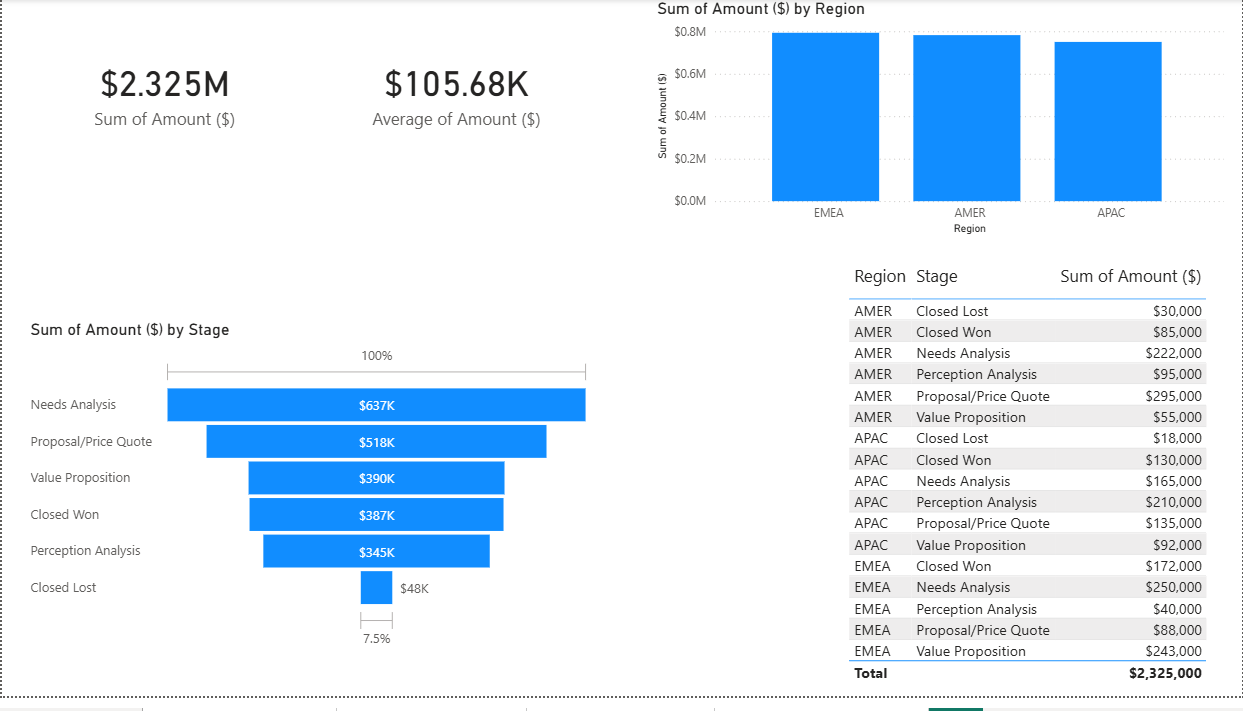

This screenshot's page, from the dashboard's own definition file:
{"tool":"powerbi","page":{"name":"Pipeline Overview","canvas":[1280,720],"ordinal":0},"visuals":[{"type":"card","fields":{"Values":["Sum(PBI Data Model.Amount ($))"]},"box":[17.3,0,301.3,190.3],"z":0},{"type":"clusteredColumnChart","fields":{"Category":["PBI Data Model.Region"],"Y":["Sum(PBI Data Model.Amount ($))"]},"box":[671.8,0,595.4,248],"z":1000},{"type":"funnel","fields":{"Category":["PBI Data Model.Stage"],"Y":["Sum(PBI Data Model.Amount ($))"]},"box":[24.5,331.6,588.2,344.5],"z":2000},{"type":"tableEx","fields":{"Values":["PBI Data Model.Region","PBI Data Model.Stage","Sum(PBI Data Model.Amount ($))"]},"box":[869.3,268.1,397.9,451.2],"z":3000},{"type":"card","fields":{"Values":["Avg(PBI Data Model.Amount ($))"]},"box":[318.6,0,301.3,190.3],"z":4000}]}

Visuals, with their boxes in screenshot pixels (x1, y1, x2, y2), scaled from the page's 1280x720 canvas onto the 1243x711 screenshot:
card - Sum(PBI Data Model.Amount ($)): [17,0,309,188]
clusteredColumnChart - PBI Data Model.Region x Sum(PBI Data Model.Amount ($)): [652,0,1231,245]
funnel - PBI Data Model.Stage x Sum(PBI Data Model.Amount ($)): [24,327,595,668]
tableEx - PBI Data Model.Region x PBI Data Model.Stage: [844,265,1231,710]
card - Avg(PBI Data Model.Amount ($)): [309,0,602,188]
